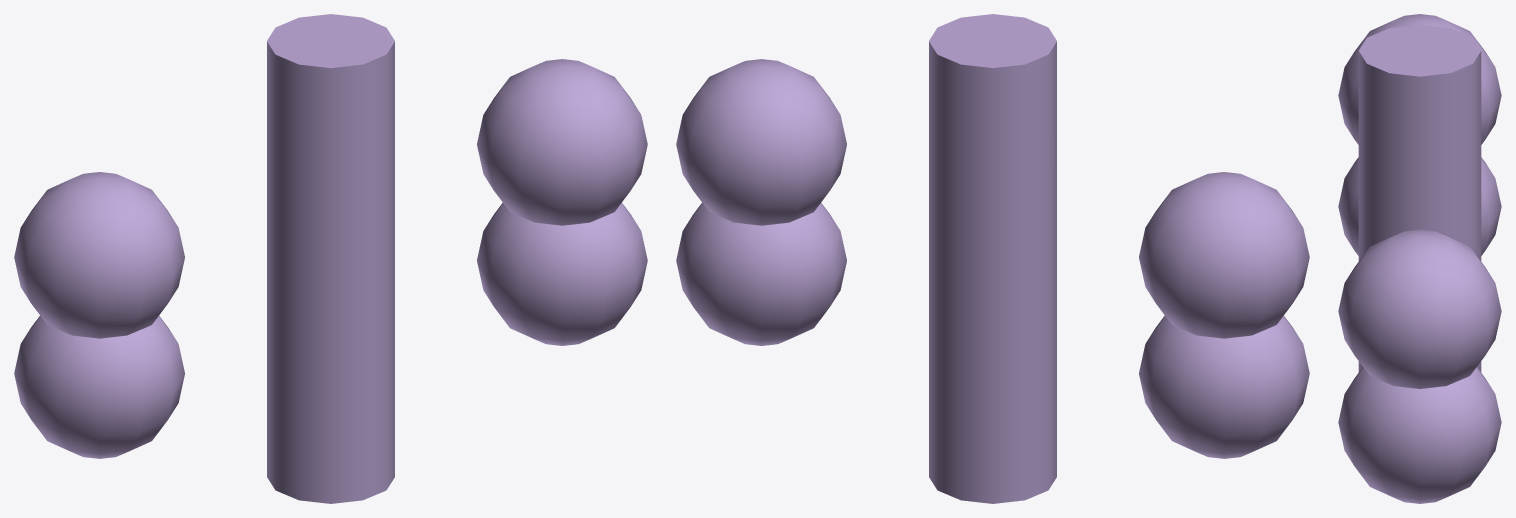
File: bone.glb
The picture shows the model from 3 angles, left to right: view 1: azimuth 30°, elevation 25°; view 2: azimuth 150°, elevation 25°; view 3: azimuth 270°, elevation 25°; orthographic projection. The views are drawn at different scales.
Bounding box in the file's own units: 1.32 × 0.9 × 0.32.
